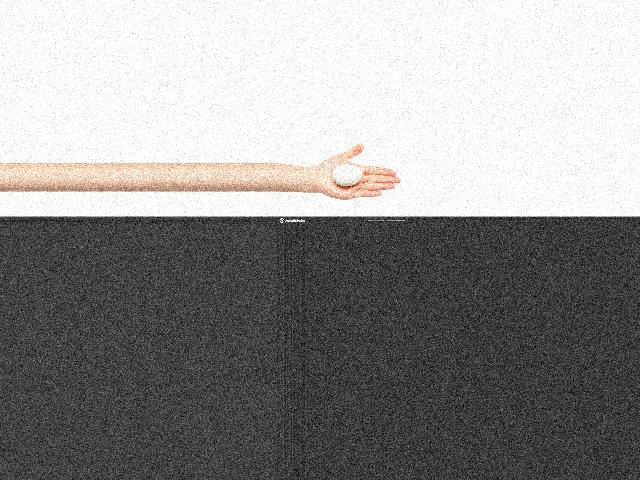egg: (332, 165, 362, 185)
